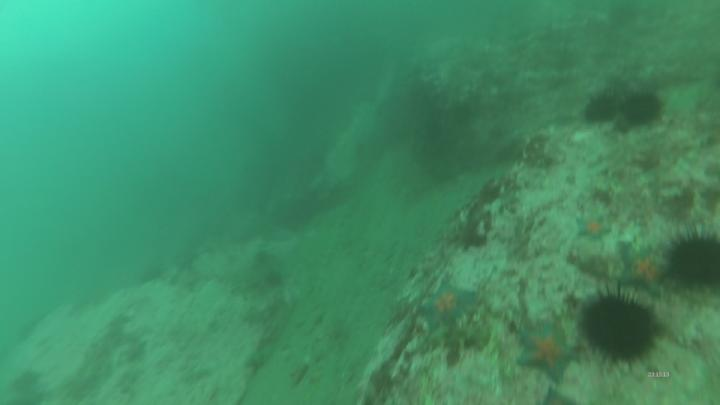echinus: (574, 280, 666, 375), (657, 228, 720, 297), (619, 87, 667, 129), (579, 86, 628, 126)
starfish: (515, 323, 580, 386), (416, 281, 482, 336), (620, 242, 671, 290), (570, 212, 615, 244)
